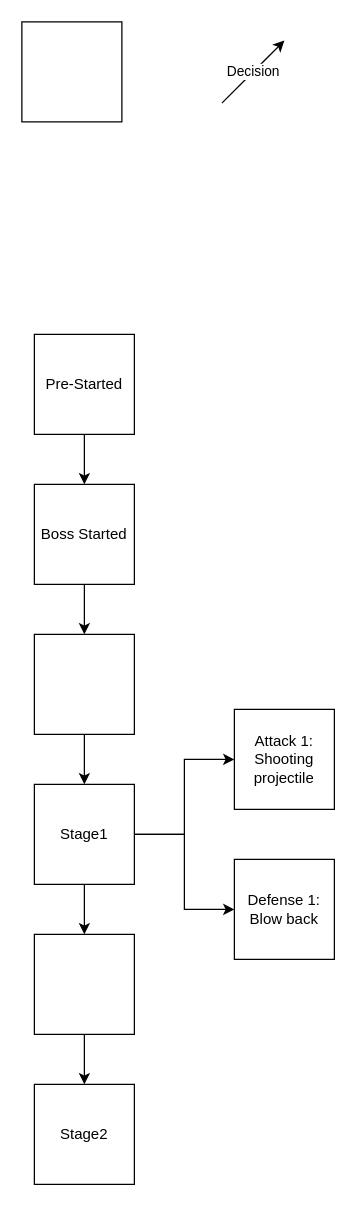
Image size: 356x1206. Some labels were removed from this diagram. The shapes that lost their labels are listed below. From the top down, each one's centre as x and y in pixels, then its label:
At [71,71]: "State".
At [83,683]: "Intro".
At [83,983]: "PreStage 2".
